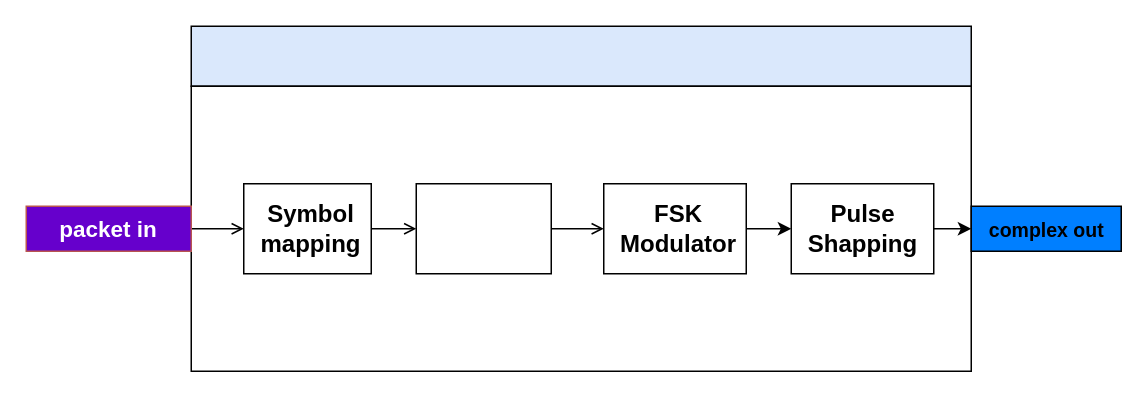
Image size: 1148x398. Some labels were removed from this diagram. The shapes that lost their labels are listed below. From the top down, each one's box as (x1, y1, x2, y2) in pixels, then its label:
(190, 25, 971, 86): AFSK Modulator
(415, 182, 551, 274): Baudrate adjust
